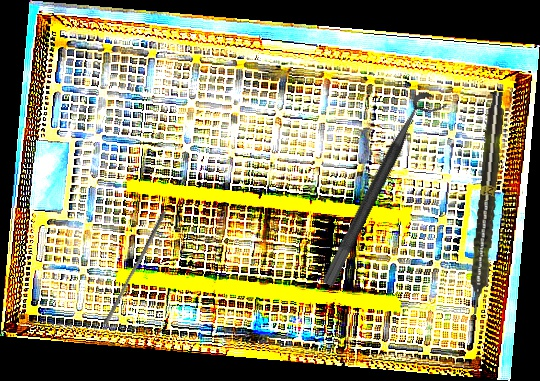Fixation Ring: (320, 88, 448, 296)
Handpiece: (464, 90, 508, 320)
Pusher: (102, 208, 168, 327)
